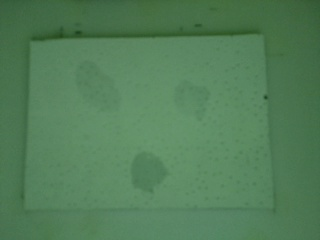Water_detected: (128, 154, 166, 193), (181, 79, 221, 115), (82, 80, 115, 114)
